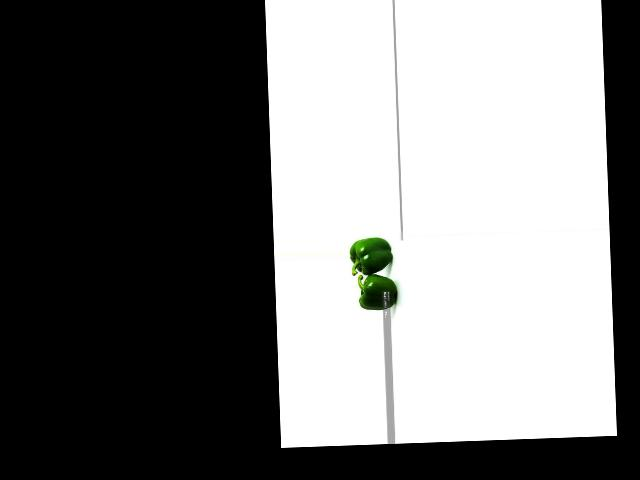bell_pepper: (346, 236, 398, 275)
